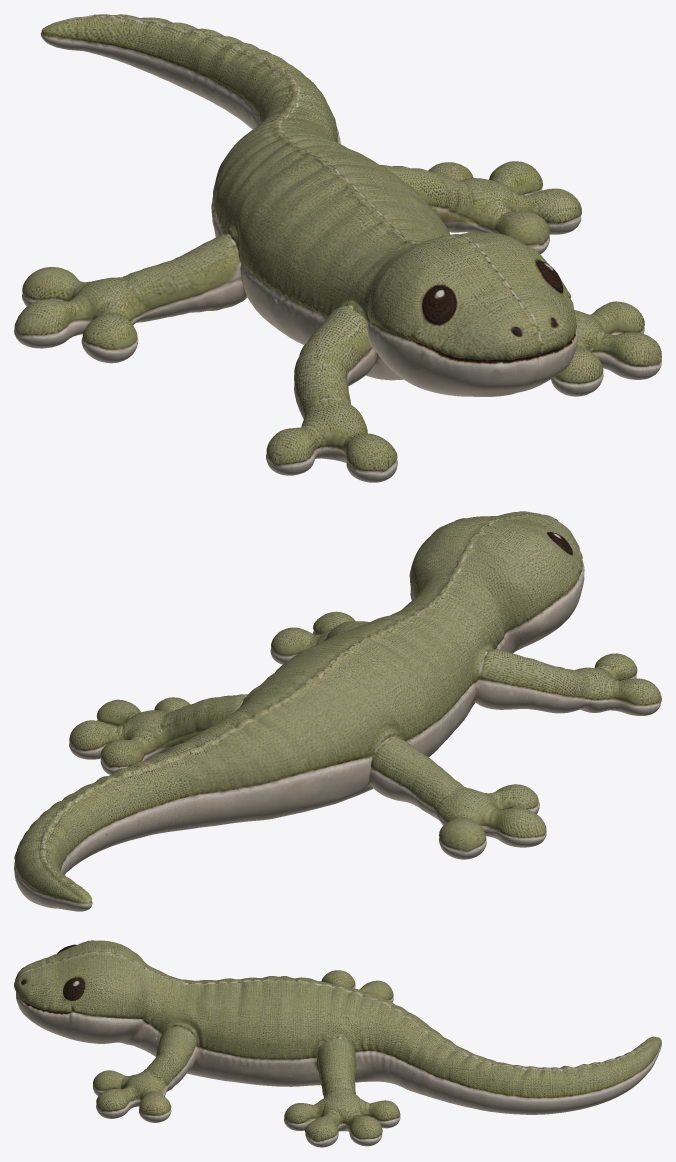
File: tripo_convert_3ecacbdb-2f0e-4ec7-b3e7-2d26535b6fb4.fbx
The picture shows the model from 3 angles, top to bottom: view 1: azimuth 30°, elevation 25°; view 2: azimuth 150°, elevation 25°; view 3: azimuth 270°, elevation 25°; orthographic projection. The views are drawn at different scales.
Parts seen in each view (by area): view 1: tripo_node_3ecacbdb; view 2: tripo_node_3ecacbdb; view 3: tripo_node_3ecacbdb.
Part boxes in pixels (box(x1,y1,x2,y2)): tripo_node_3ecacbdb: box(14, 14, 661, 482); tripo_node_3ecacbdb: box(14, 511, 661, 911); tripo_node_3ecacbdb: box(14, 940, 661, 1147).
Size of the model in its own units: 58.73 by 97.98 by 19.43.
1 material, 1 textured.
